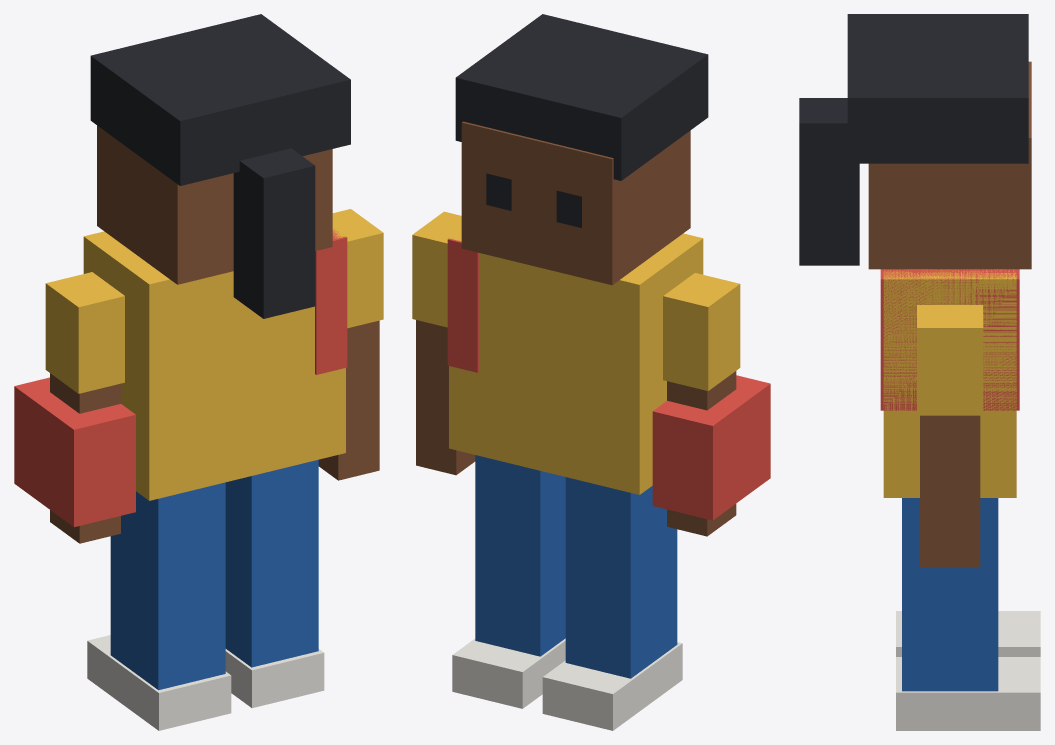
File: H_WomanCasual.fbx
The picture shows the model from 3 angles, left to right: view 1: azimuth 30°, elevation 25°; view 2: azimuth 150°, elevation 25°; view 3: azimuth 270°, elevation 25°; orthographic projection. The views are drawn at different scales.
Parts seen in each view (by area): view 1: H_WomanCasual; view 2: H_WomanCasual; view 3: H_WomanCasual.
Boxes of the visible parts, bbox=[...] form: H_WomanCasual: bbox=[14, 14, 383, 730]; H_WomanCasual: bbox=[412, 14, 770, 730]; H_WomanCasual: bbox=[799, 14, 1040, 730].
Bounding box in the file's own units: 0.625 × 1.16 × 0.4.
